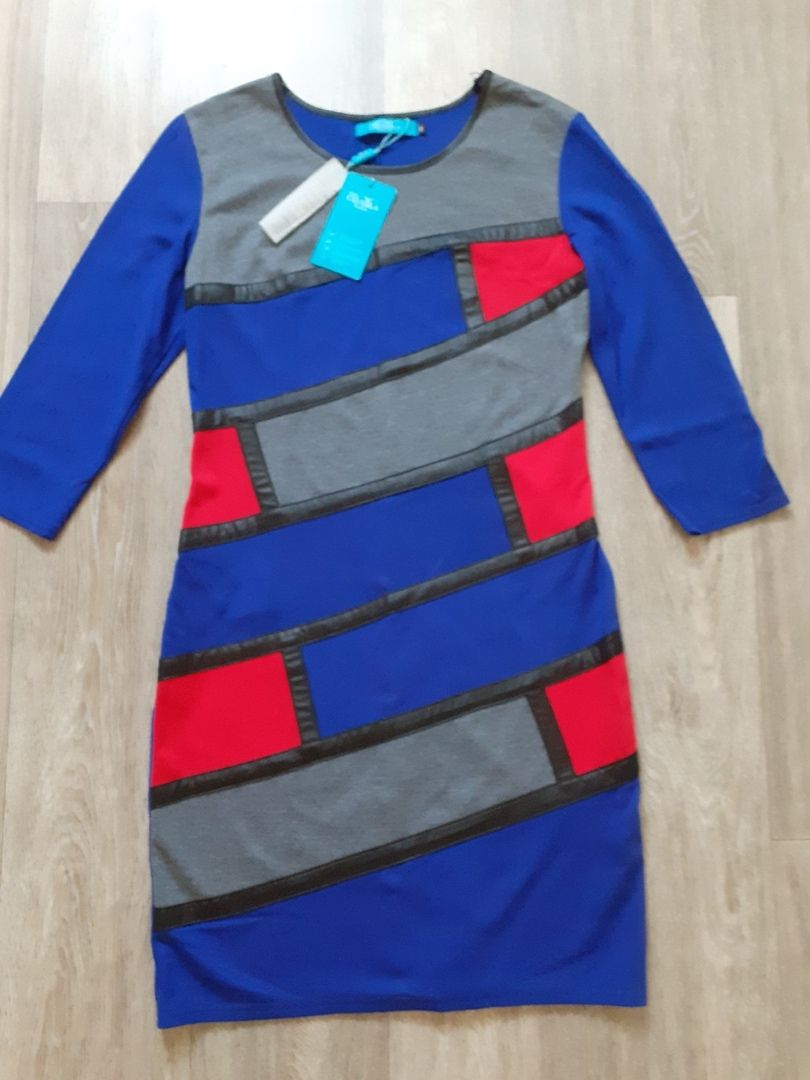clothes: (9, 68, 794, 1035)
